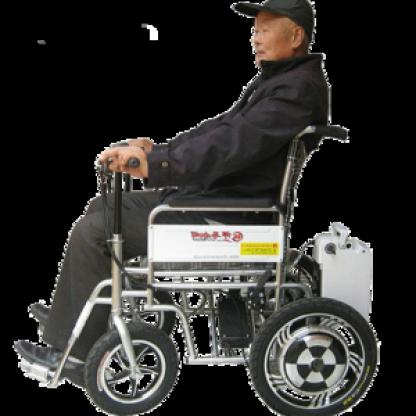wheelchair: (40, 0, 382, 415)
